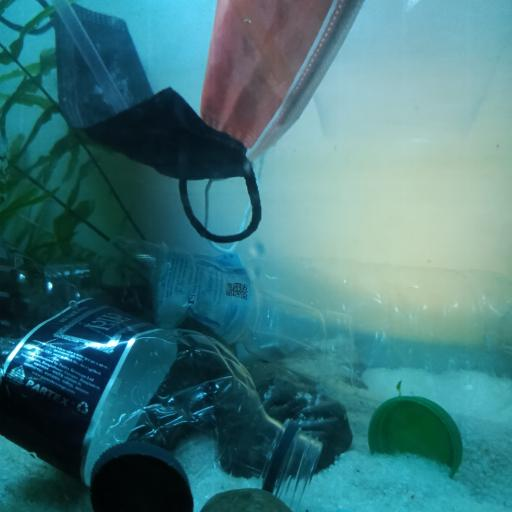bottle_cap: (89, 439, 197, 512), (370, 395, 463, 477)
mask: (40, 0, 263, 247), (193, 0, 364, 233)
plastic_bottle: (3, 247, 322, 509), (50, 249, 512, 419)
plastic_straw: (50, 0, 120, 117)
